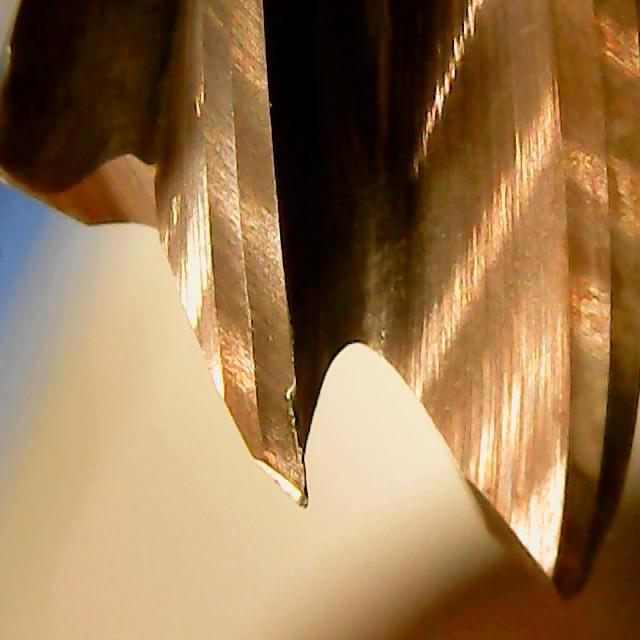Tool-wear-class-1: (192, 215, 321, 511)
